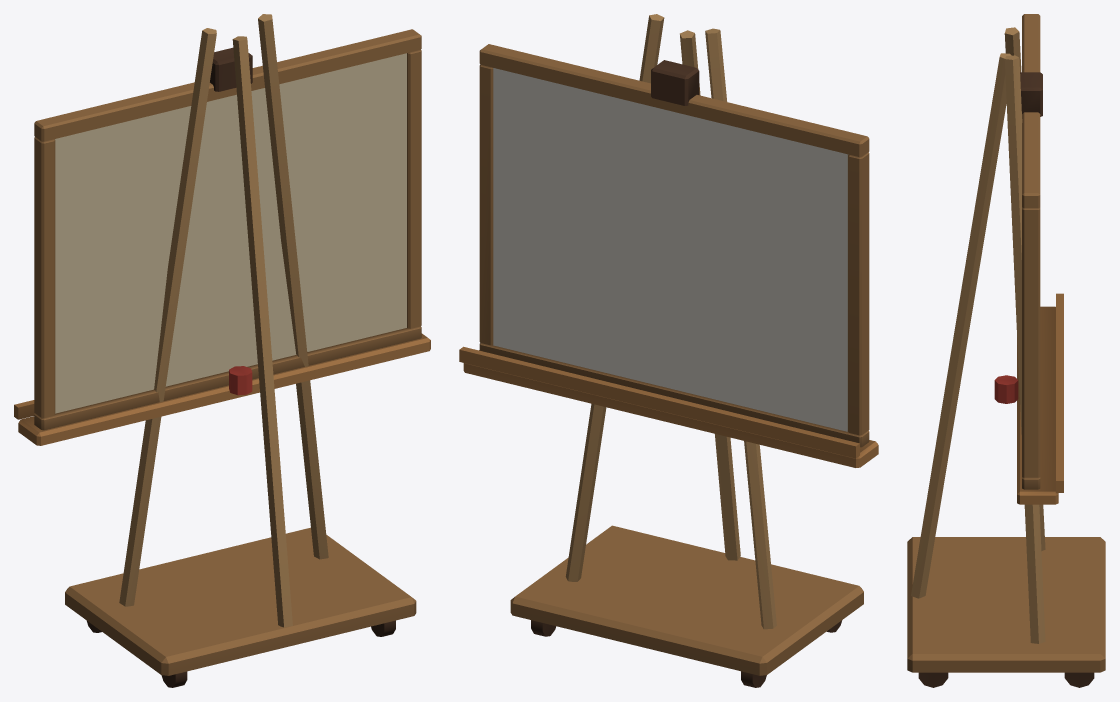
Rendered from quiz_easel.glb.
3 renders of one model, left to right at view 1: azimuth 30°, elevation 25°; view 2: azimuth 150°, elevation 25°; view 3: azimuth 270°, elevation 25°, orthographic. The views are drawn at different scales.
Parts seen in each view (by area): view 1: easel; view 2: easel_face, easel; view 3: easel.
Boxes of the visible parts, x1,y1,x2,y2 form: easel: (14, 14, 430, 687); easel_face: (493, 68, 847, 431); easel: (459, 14, 878, 687); easel: (907, 14, 1105, 687).
Bounding box in the file's own units: 1.7 × 2.5 × 0.76.
